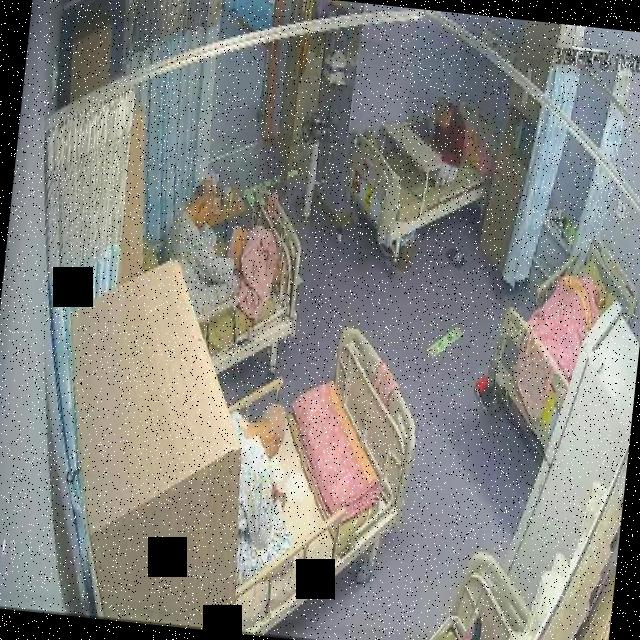bed: (199, 317, 426, 640), (481, 229, 640, 457), (156, 184, 306, 380), (344, 85, 502, 258)
patient: (218, 393, 306, 590), (160, 177, 250, 331), (418, 94, 468, 192)
sit: (161, 174, 295, 328), (217, 391, 307, 591), (419, 96, 468, 190)
